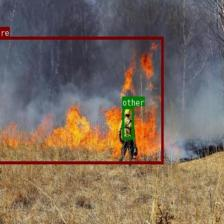fire: (0, 36, 163, 164)
